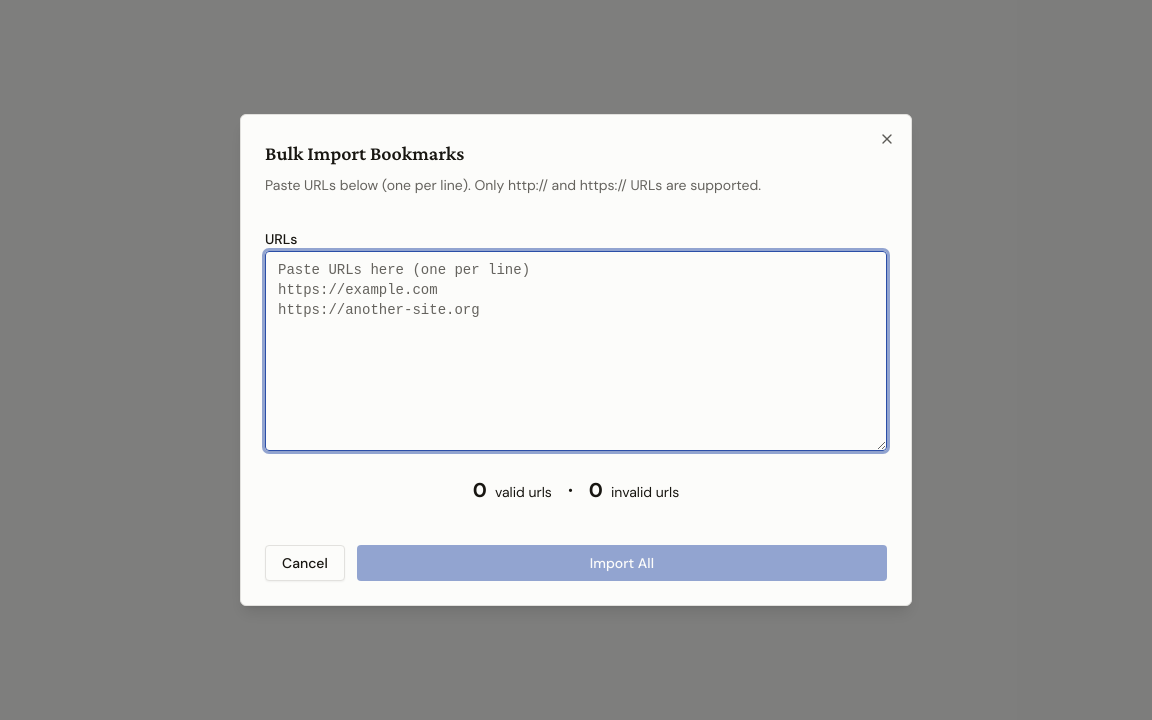
Test: BulkImportModal › Success State › auto-closes after 3 seconds on success
Type "https://example.com" into the text box with placeholder "Paste URLs" at (576, 351), box [265,251,887,451]
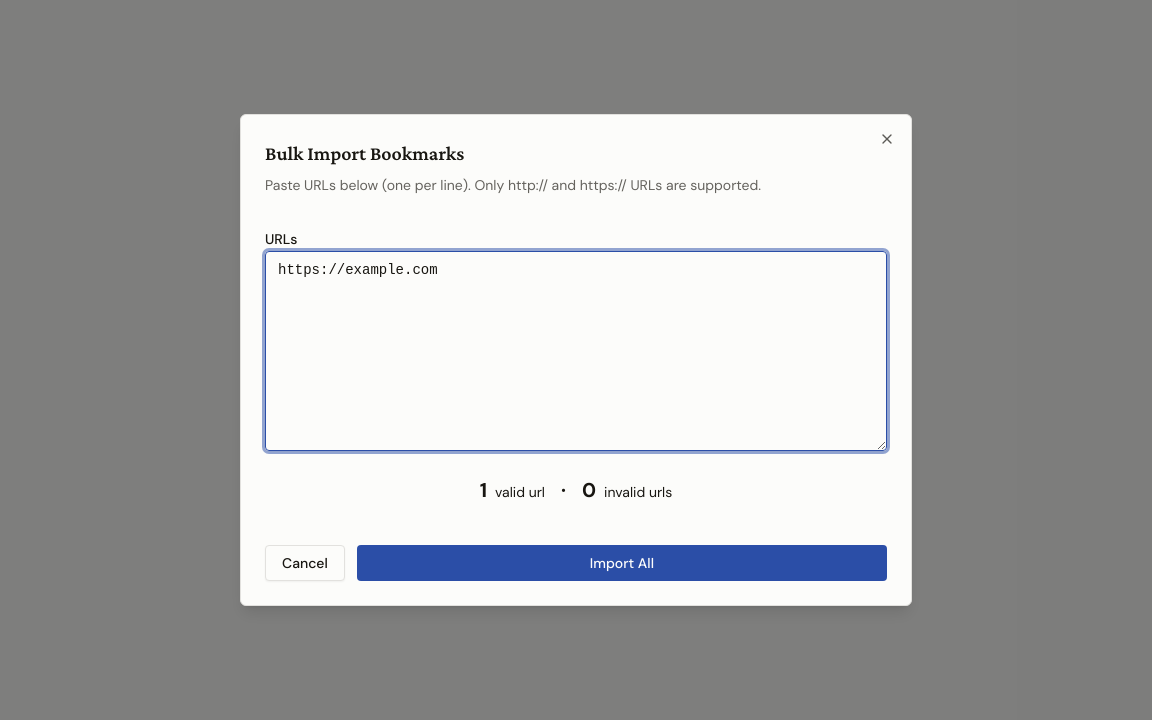
Click the button "Import All" at (622, 563), box [357,545,887,581]
Wait 3000 ms
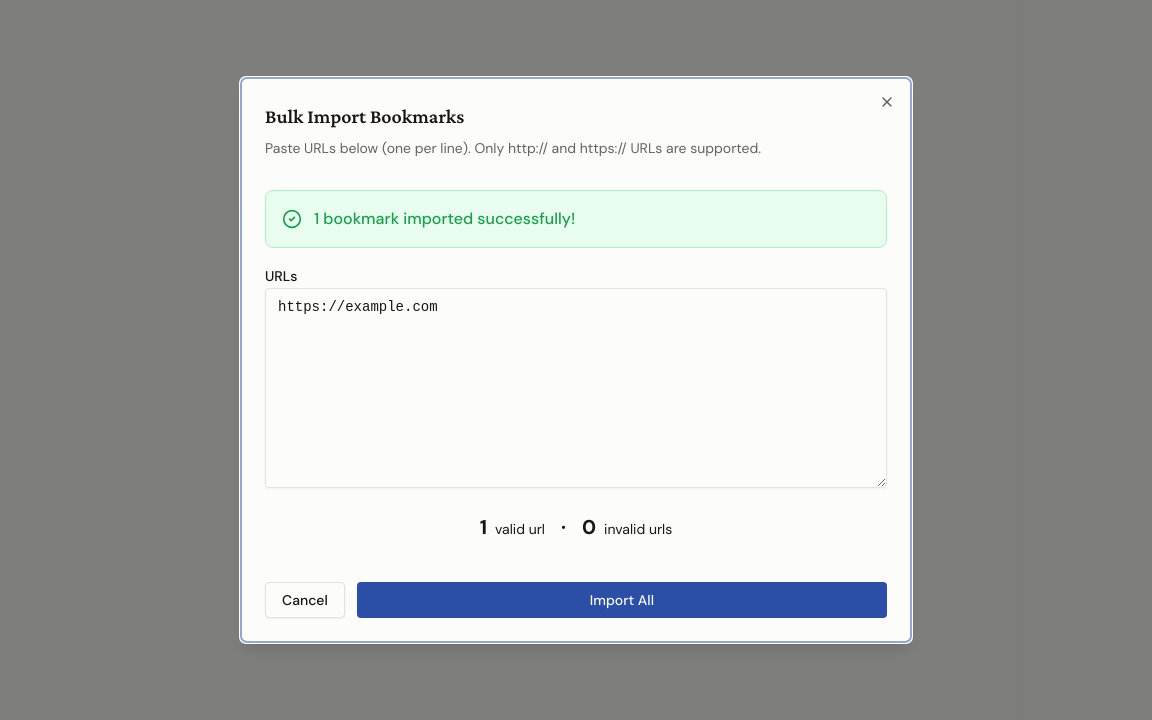
Check: the text "1 bookmark imported successfully!" is shown, box [314,207,575,231]
